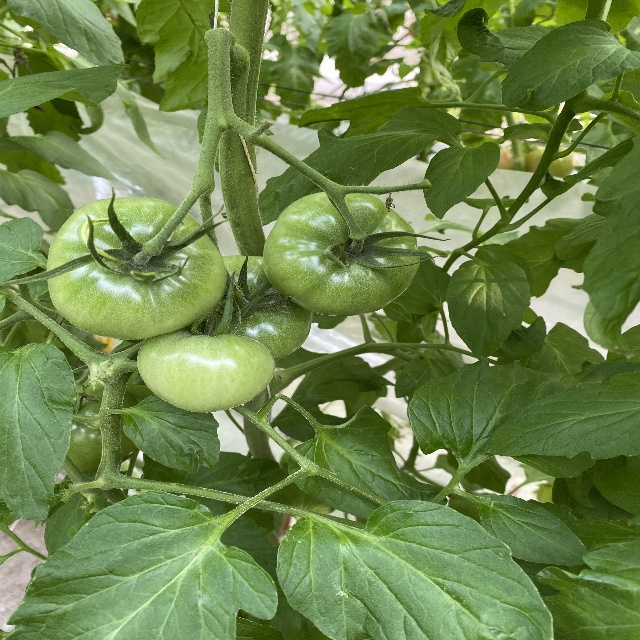b_green: (46, 197, 225, 340), (263, 191, 419, 316), (192, 256, 313, 360), (135, 331, 274, 413)
